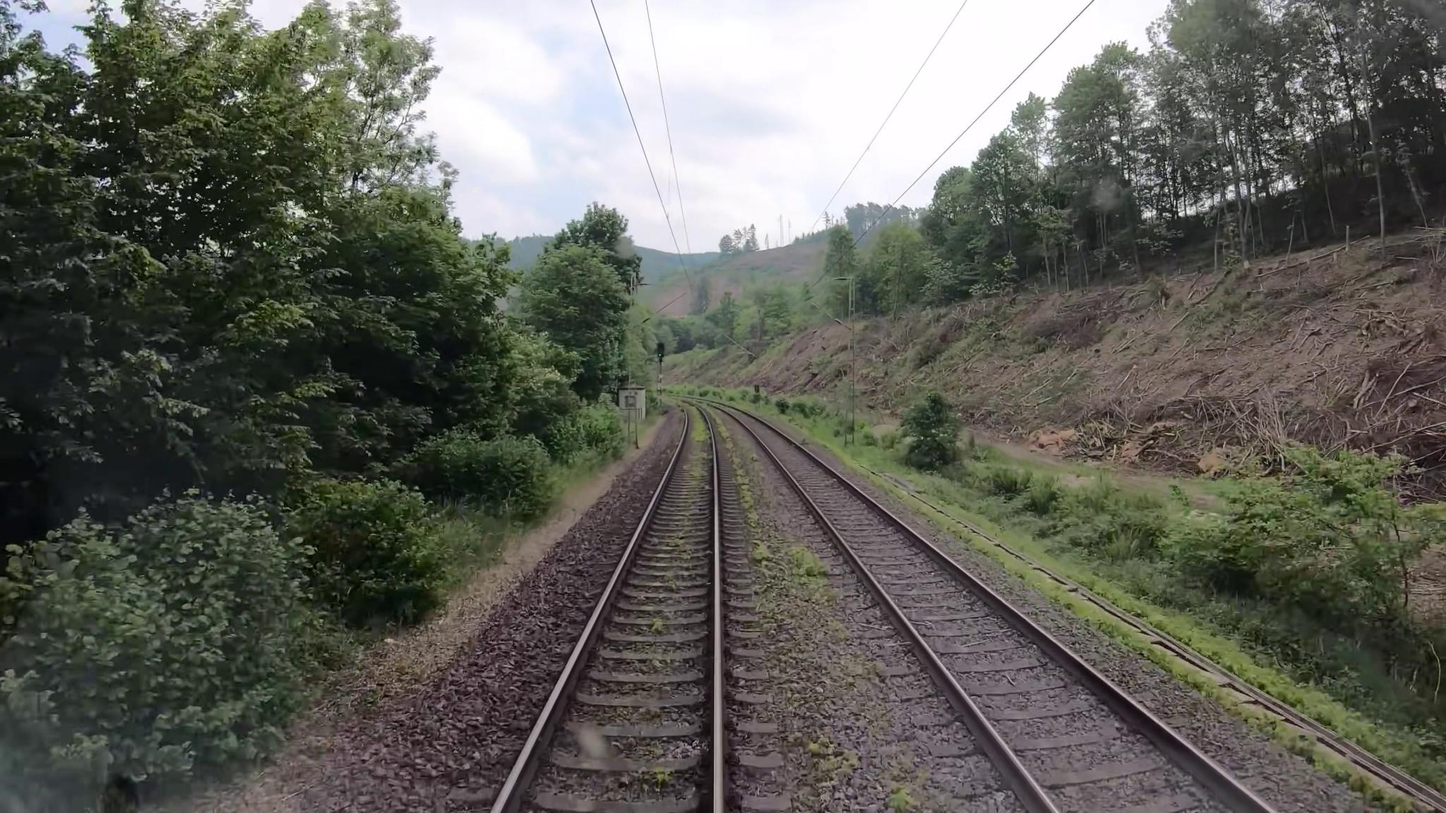Plant: (707, 407, 959, 813), (645, 399, 709, 680)
